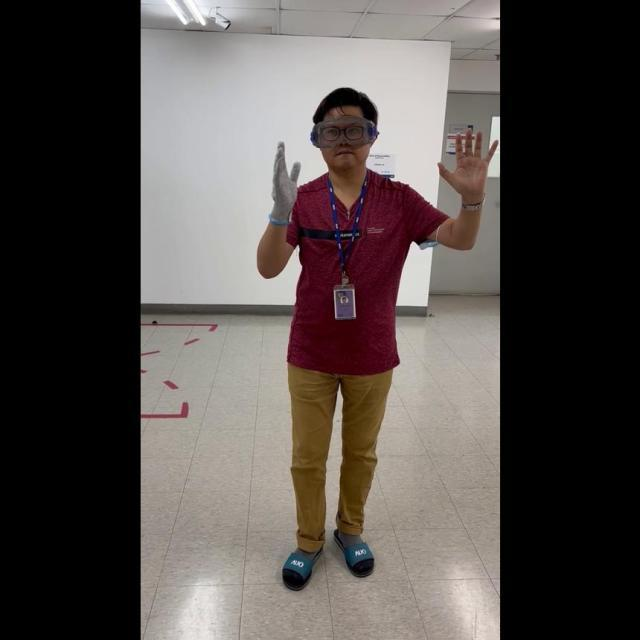bare_hand: (436, 124, 496, 199)
gloved_hand: (265, 137, 301, 226)
